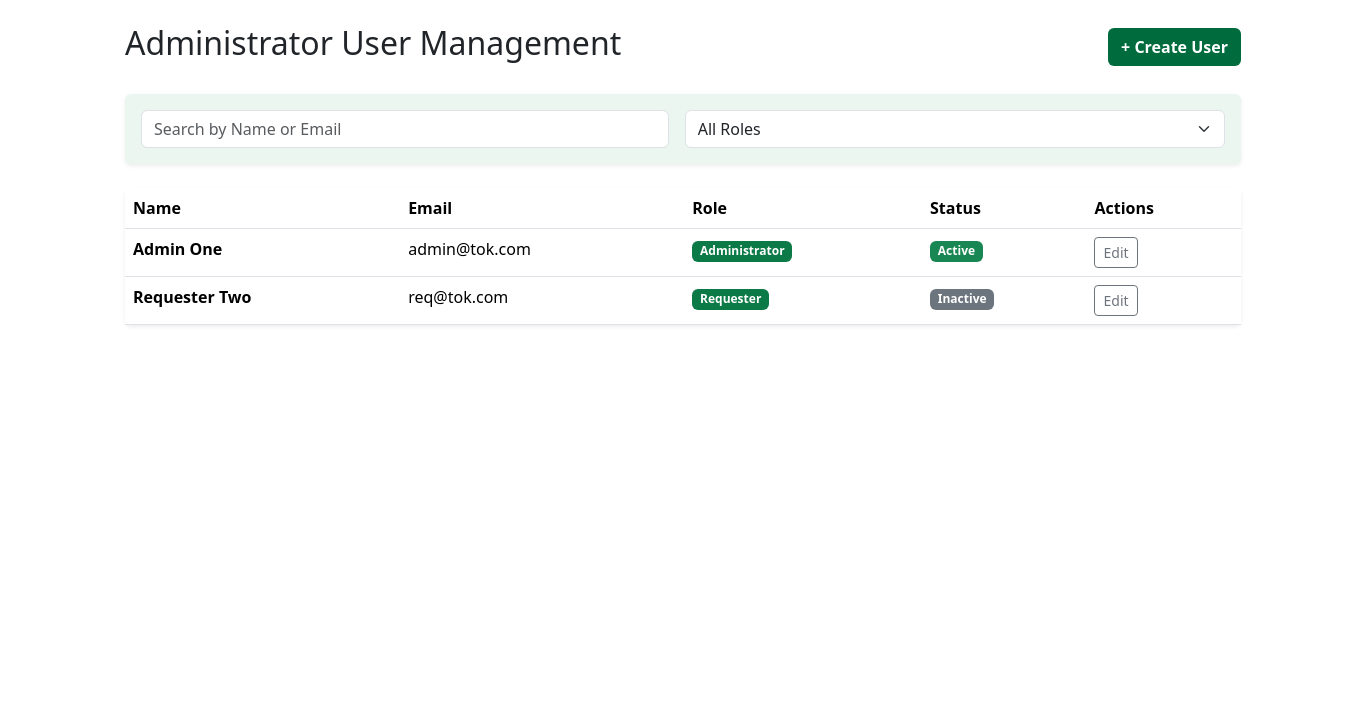
Scenario: UserManagement Component (Lab 3) › edits a user and resets password
Expected: the text "Admin One" is shown, [125,229,400,277]
Click the button "Edit" in the row of "Admin One": (1116, 253) [1094,237,1138,268]
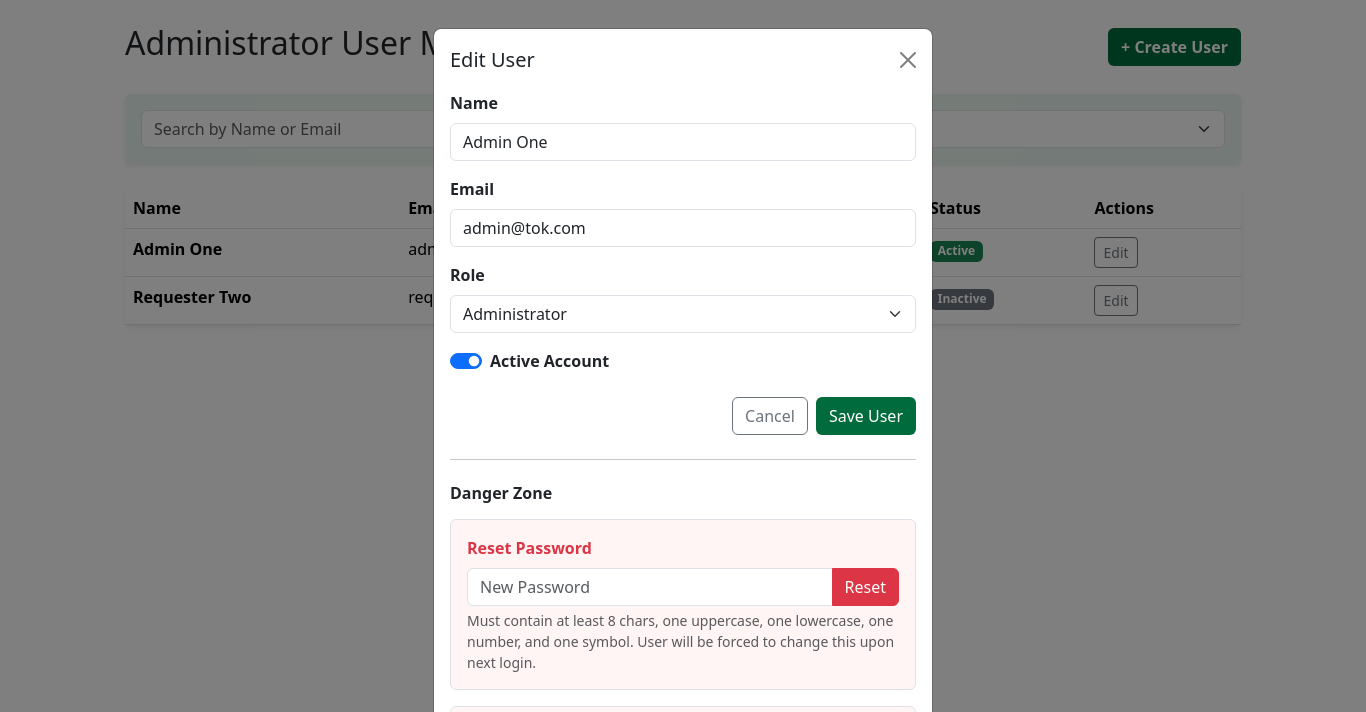
Expected: the heading "Edit User" is shown, [450,45,535,75]
Expected: the heading "Danger Zone" is shown, [450,482,552,504]
In the password field with placeholder "New Password": (650, 587) [467,568,832,606], type "StrongPass1!"
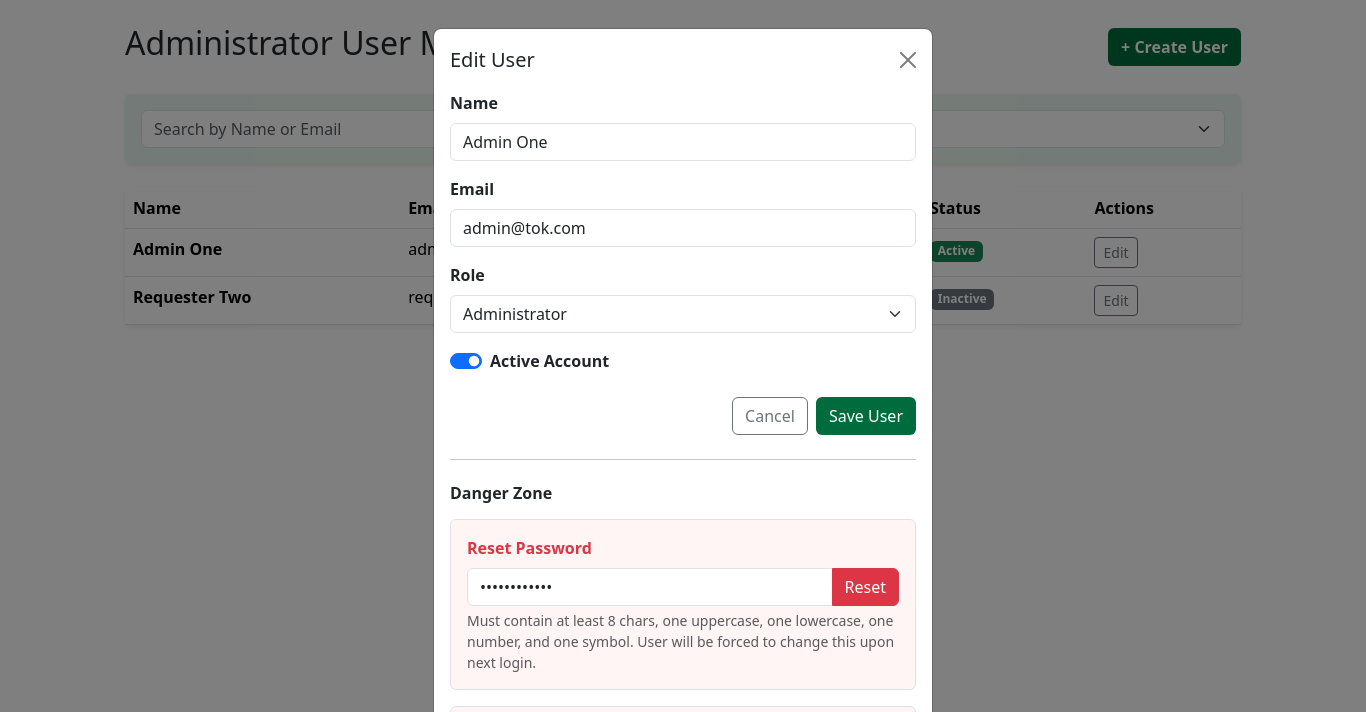
Click the button "Reset": (865, 587) [832,568,899,606]
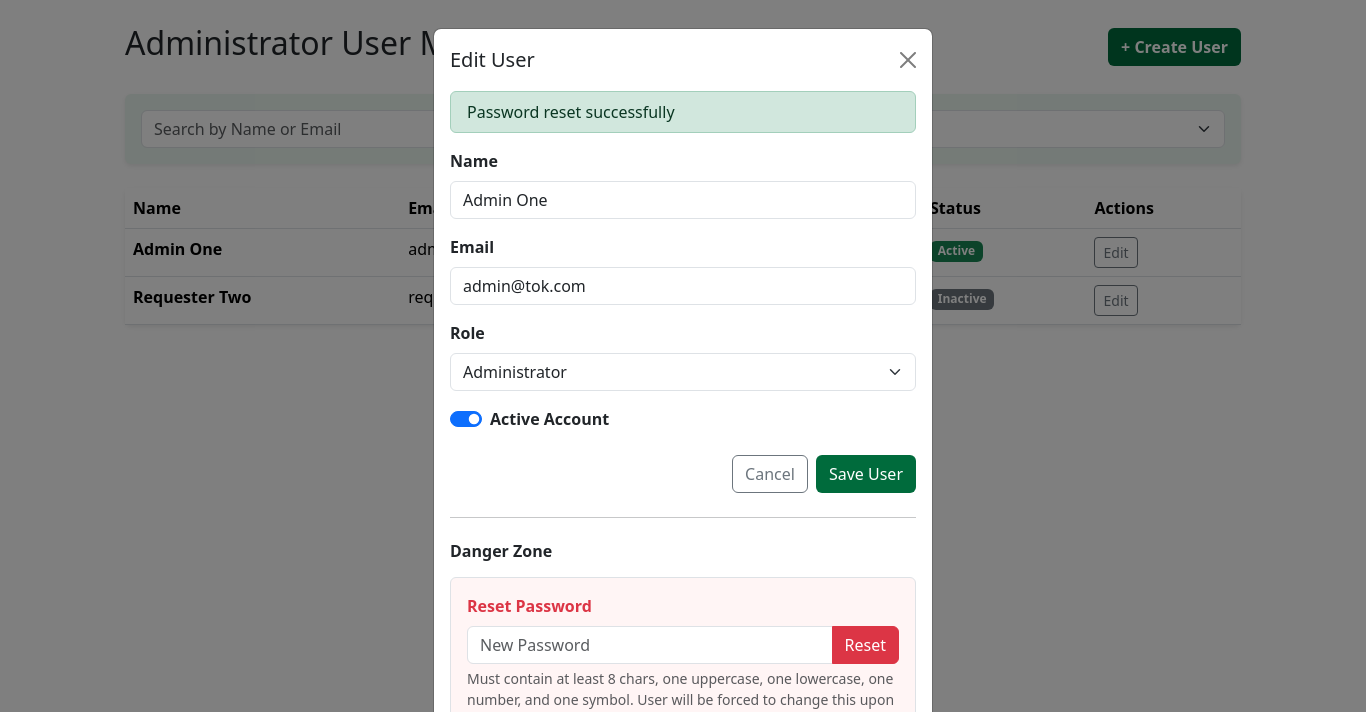
Expected: the text "Password reset successfully" is shown, [450,91,916,133]
